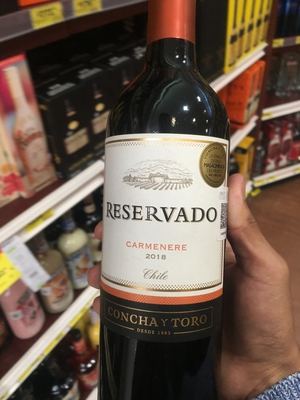reservado carmenere: (99, 1, 230, 400)
